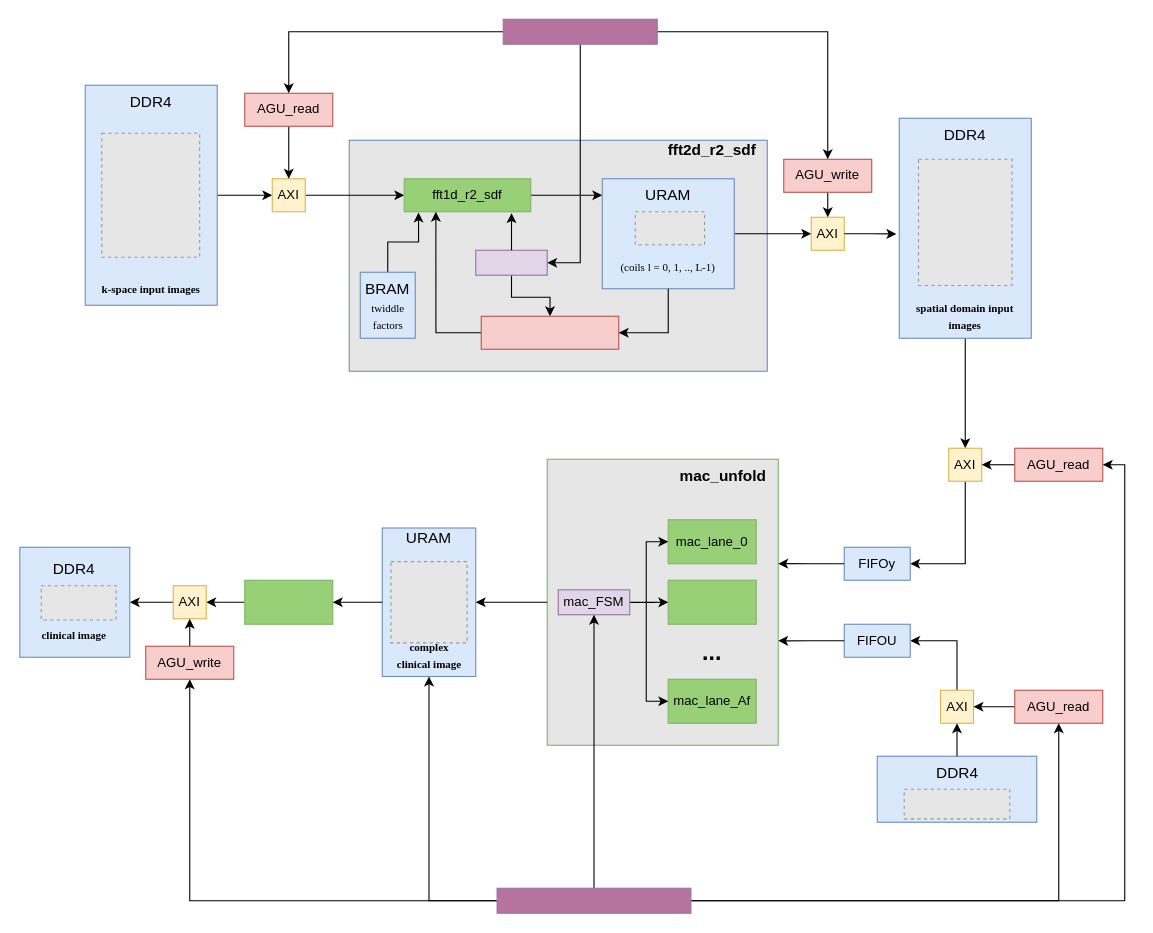
Some shapes in this 1153 by 933 pixel diagram are drawn without their labels. Grey dashed boxes stand in for pictures. Each missing label, with the centre of its shape:
AGU_corner_turn: the point at 549,332
CORDIC: the point at 288,601
fft2d_FSM: the point at 511,262
first_half_pipeline_FSM: the point at 579,31
mac_lane_1: the point at 711,601
second_half_pipeline_FSM: the point at 593,900
